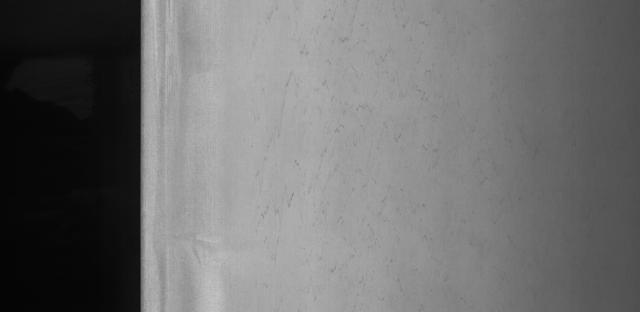silk_spot: (249, 0, 473, 292)
